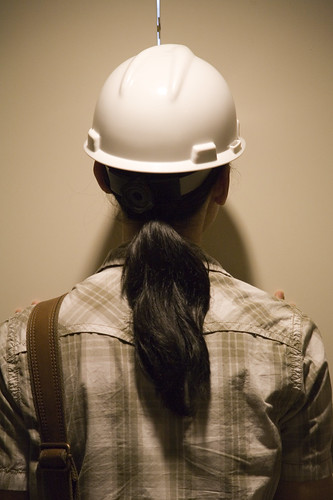person hardhat: (3, 42, 333, 500)
